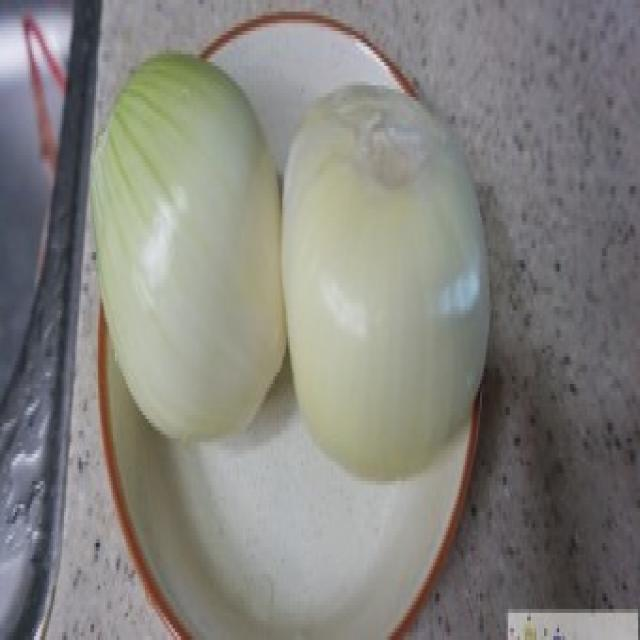Onion: (280, 76, 506, 476), (70, 49, 288, 458)
